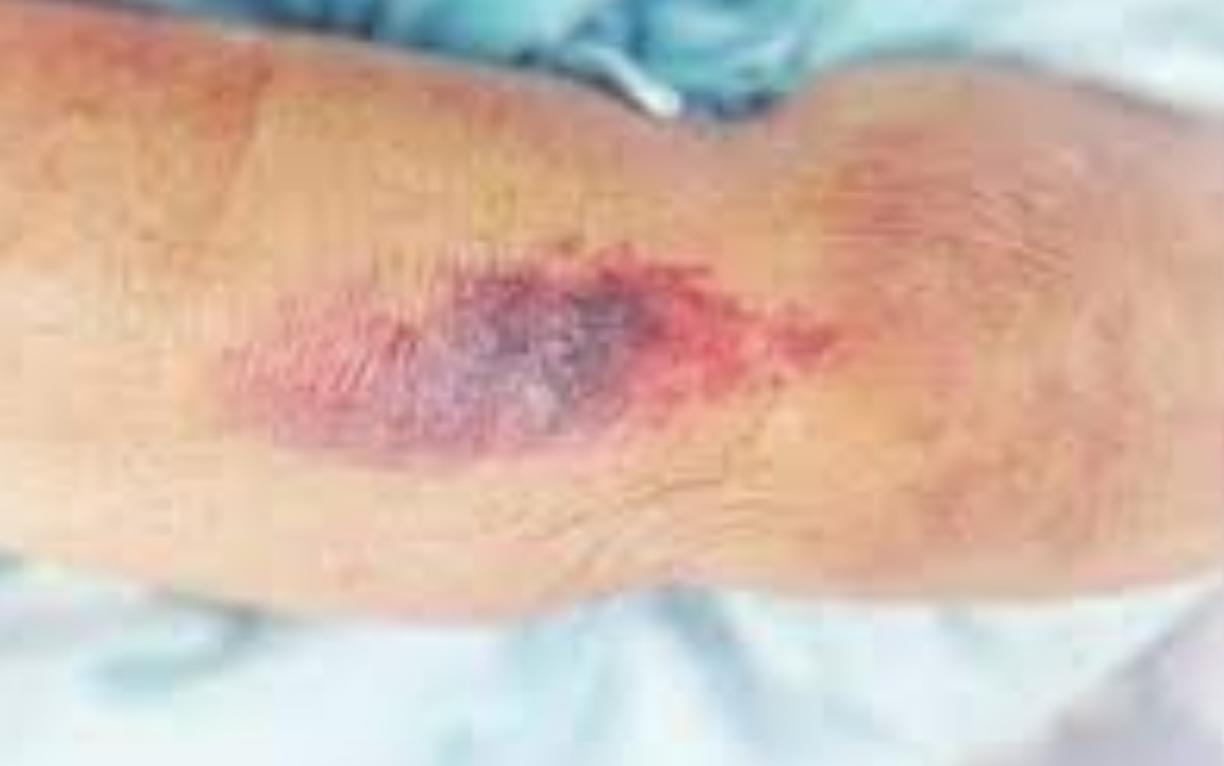Stage2: (265, 183, 800, 506)
